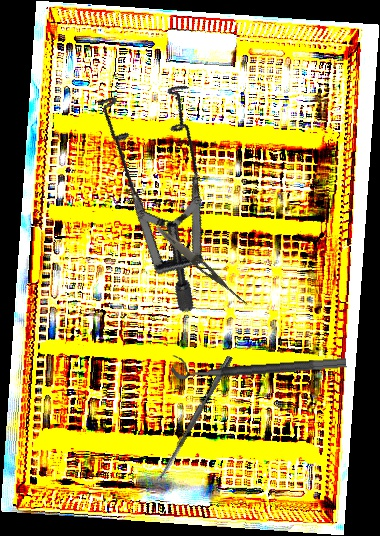Dressing Forceps: (152, 223, 253, 309)
Fixation Ring: (170, 342, 347, 382)
Speculum: (36, 57, 268, 316)
Surgical Spoon: (152, 354, 234, 487)
